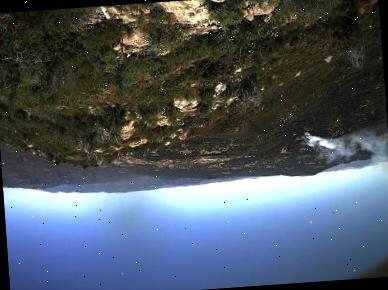smoke: (300, 124, 388, 182)
